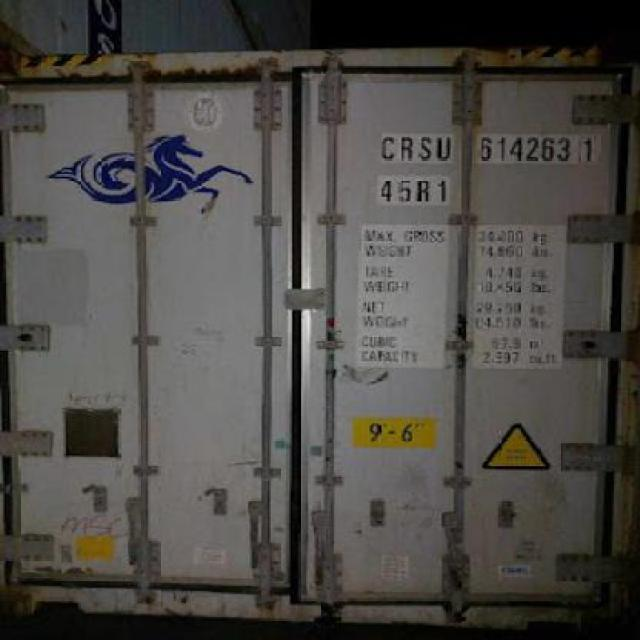ISO: (382, 177, 449, 204)
container_number: (384, 130, 592, 164)
